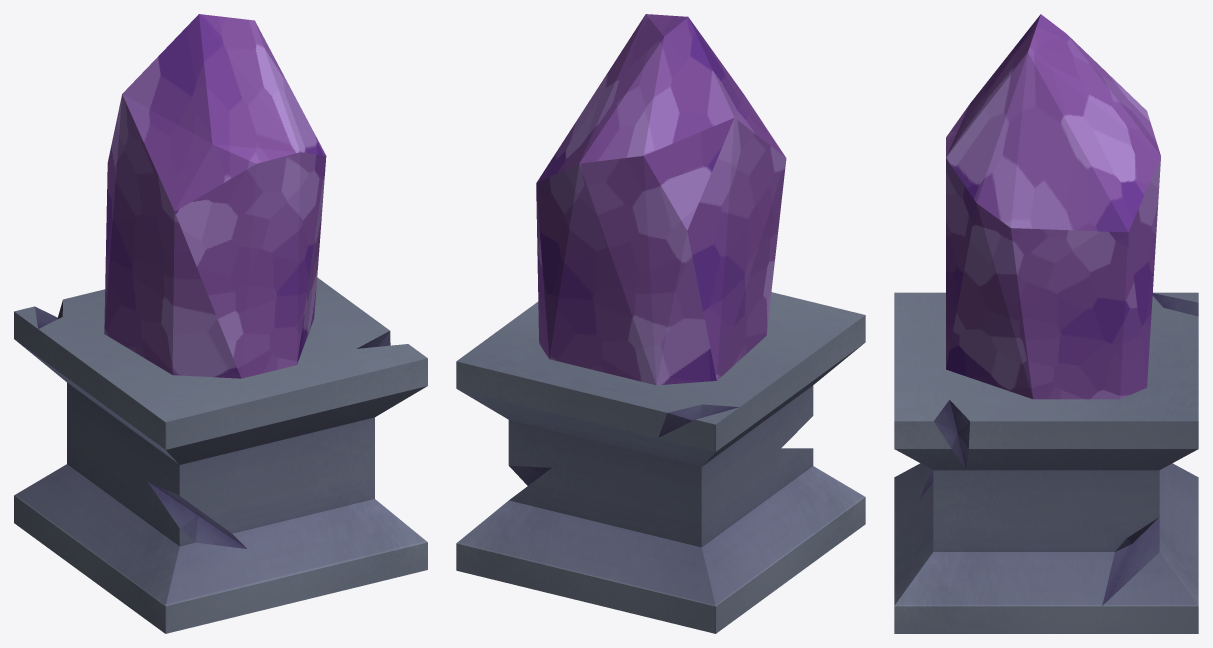
The model's file is col5.fbx.
3 renders of one model, left to right at view 1: azimuth 30°, elevation 25°; view 2: azimuth 150°, elevation 25°; view 3: azimuth 270°, elevation 25°, orthographic.
Parts seen in each view (by area): view 1: ModularAssetsDisplay.001; view 2: ModularAssetsDisplay.001; view 3: ModularAssetsDisplay.001.
Part boxes in pixels (<box>): ModularAssetsDisplay.001: <box>14,14,427,633</box>; ModularAssetsDisplay.001: <box>456,14,865,633</box>; ModularAssetsDisplay.001: <box>894,14,1198,633</box>.
Size of the model in its own units: 41.01 by 80.75 by 41.01.
